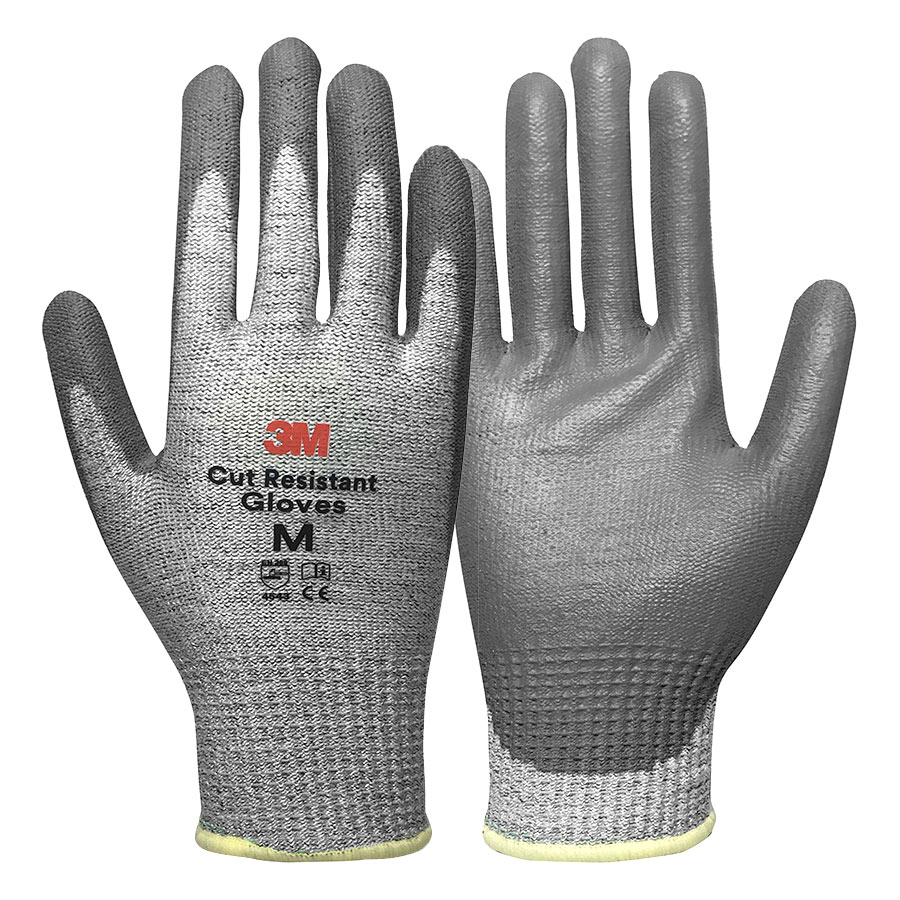3M: (260, 412, 341, 462)
